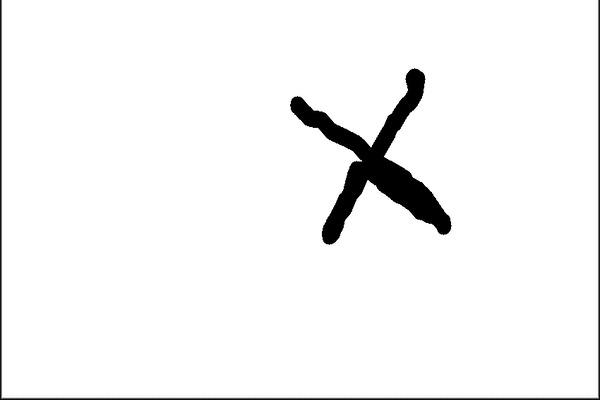X: (255, 56, 478, 259)
